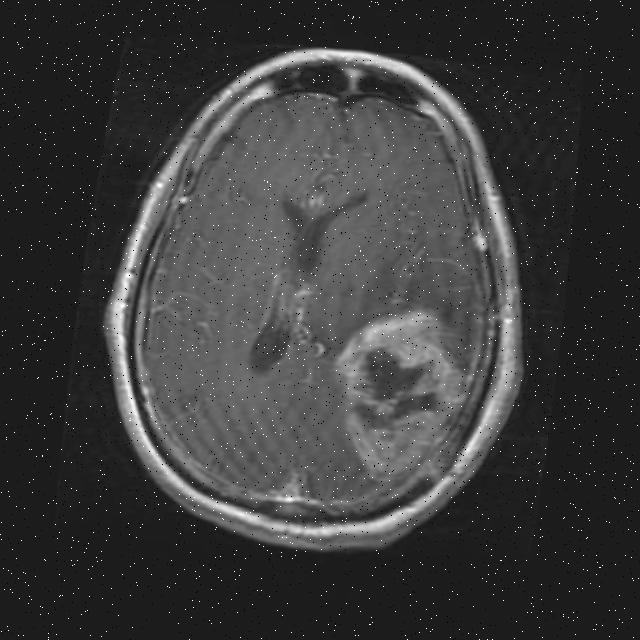Glioma: (319, 293, 484, 497)
